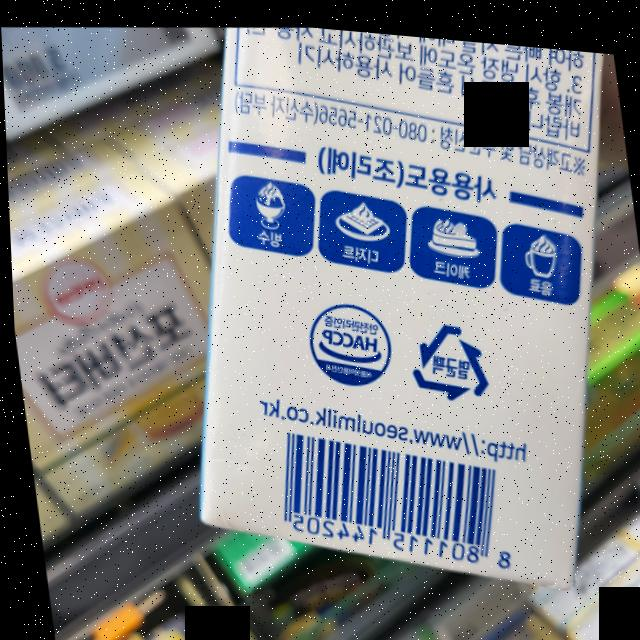SterilizedPack: (397, 304, 497, 405)
